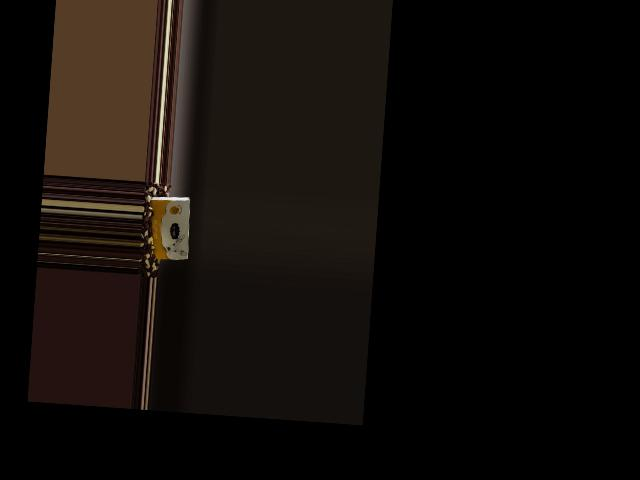chocolate: (144, 191, 194, 265)
